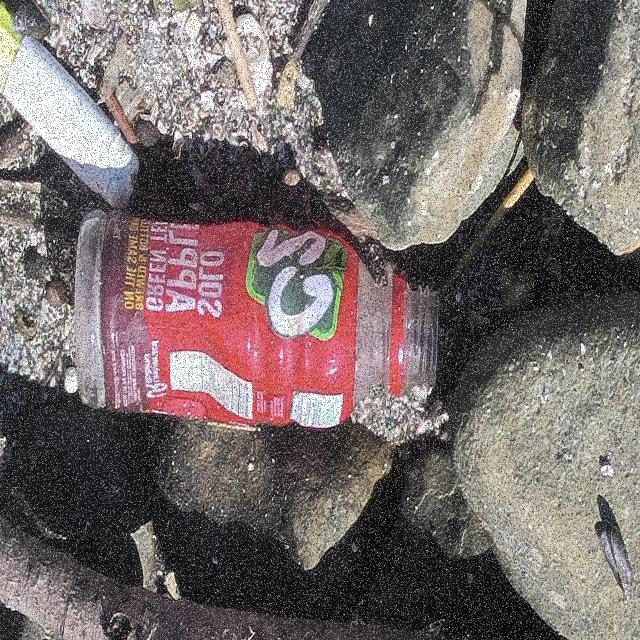plastic_waste: (76, 211, 442, 432)
